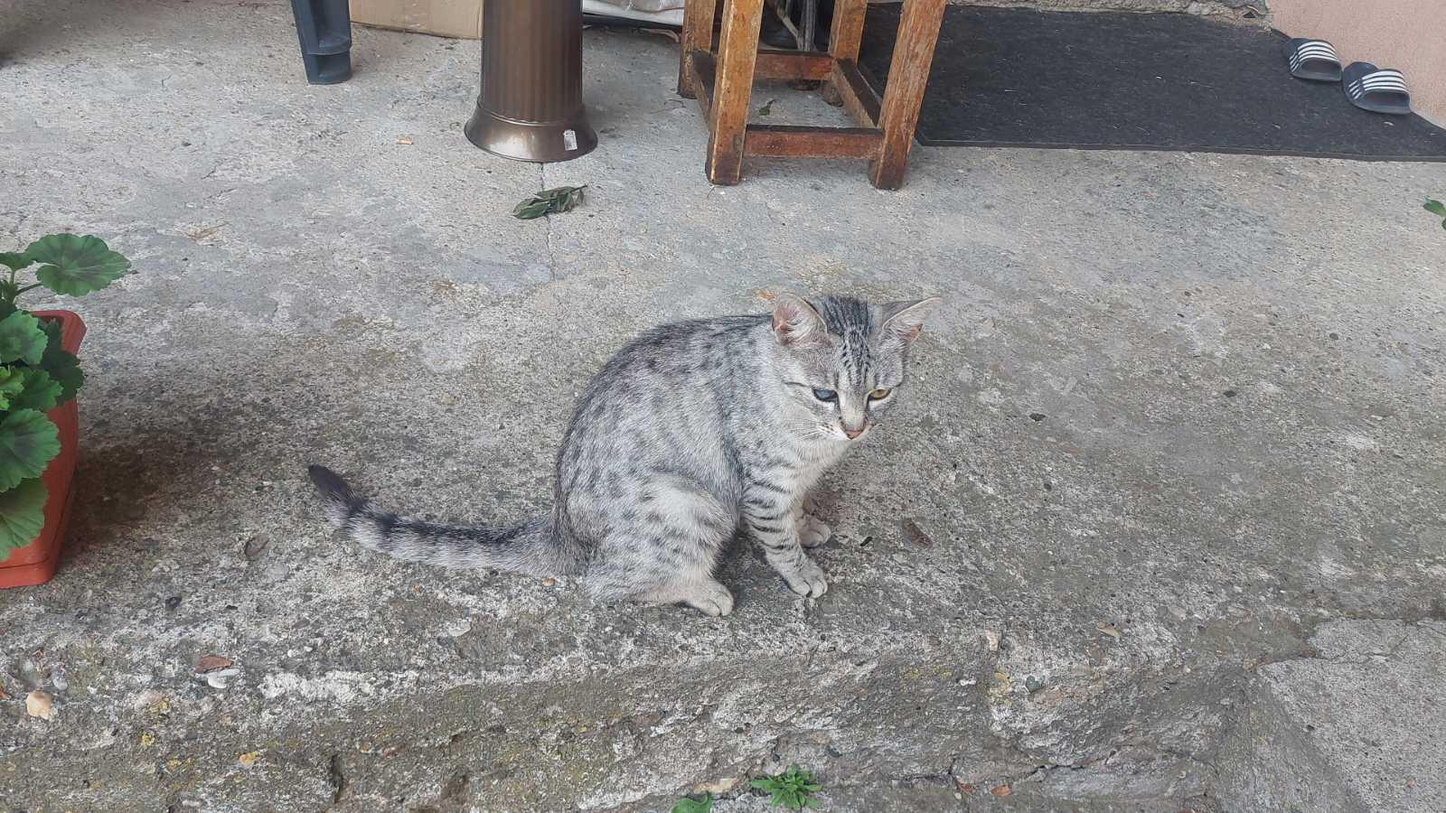macka: (305, 294, 941, 621)
